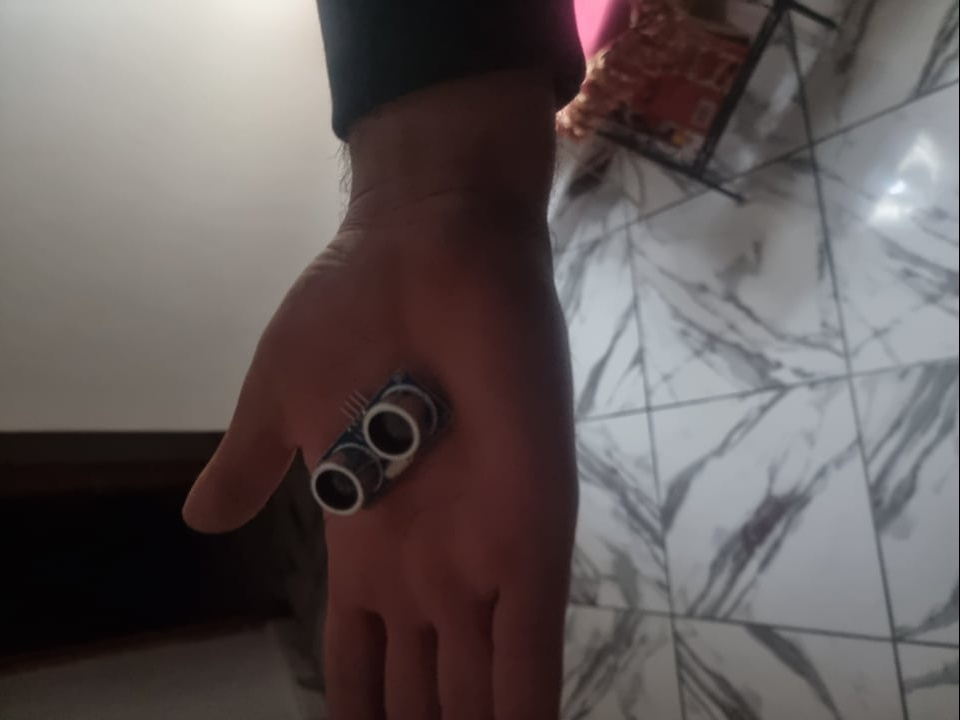SENSOR: (310, 374, 452, 519)
